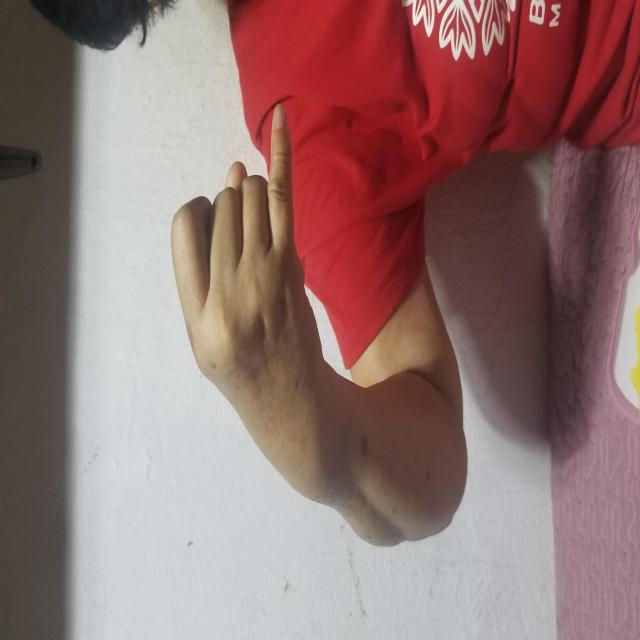J: (140, 80, 380, 535)
